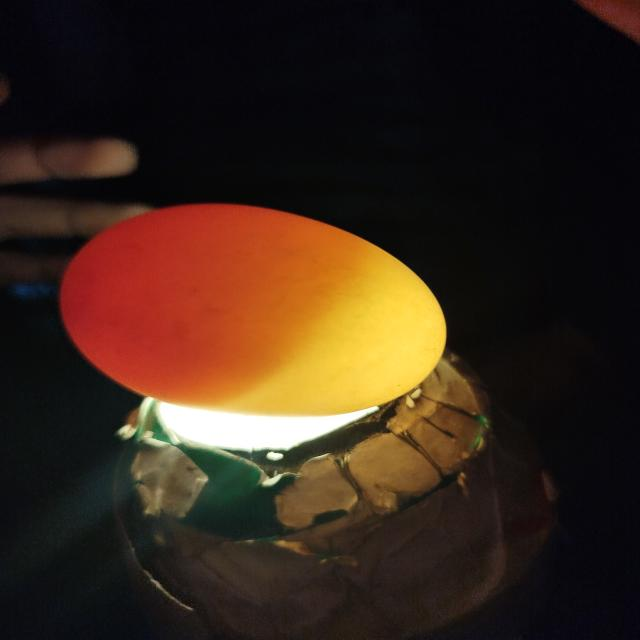Gema Quebrada: (59, 203, 357, 409)
